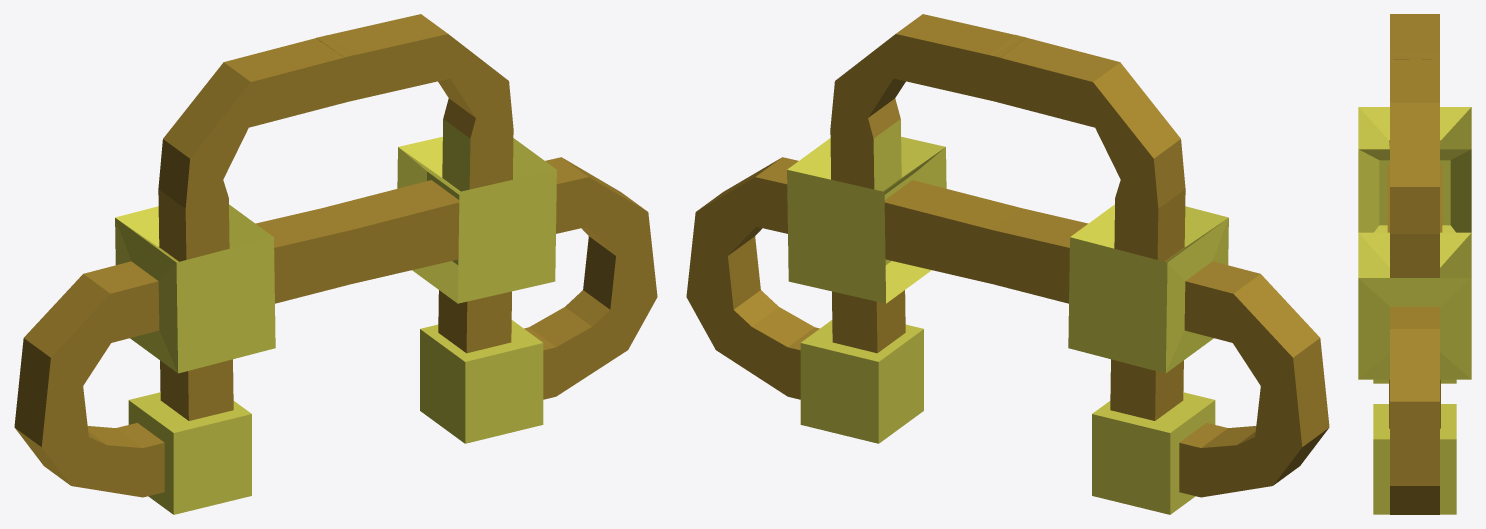
The model's file is cubicarchway.fbx.
3 renders of one model, left to right at view 1: azimuth 30°, elevation 25°; view 2: azimuth 150°, elevation 25°; view 3: azimuth 270°, elevation 25°, orthographic. The views are drawn at different scales.
Visible parts, largest first — view 1: Cube.000; view 2: Cube.000; view 3: Cube.000.
Boxes of the visible parts, x1,y1,x2,y2 form: Cube.000: [14, 14, 657, 514]; Cube.000: [686, 14, 1329, 514]; Cube.000: [1358, 14, 1471, 514].
Size of the model in its own units: 1574 by 994 by 272.
